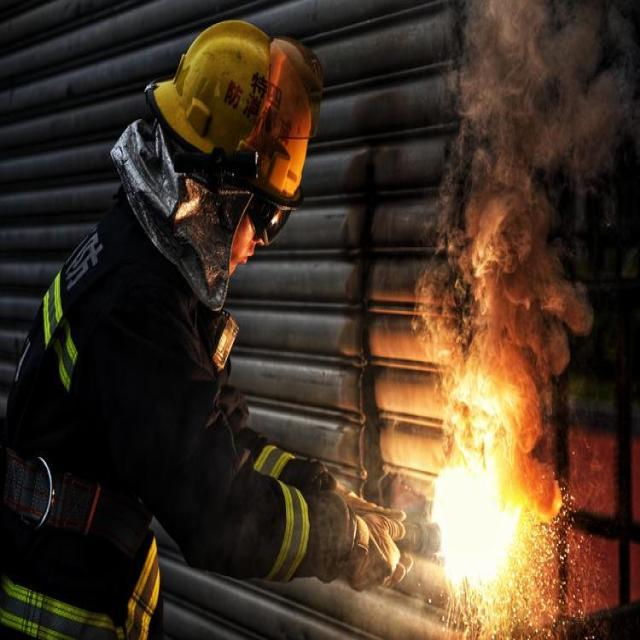Fire: (427, 448, 524, 594)
Smoke: (421, 0, 626, 448)
